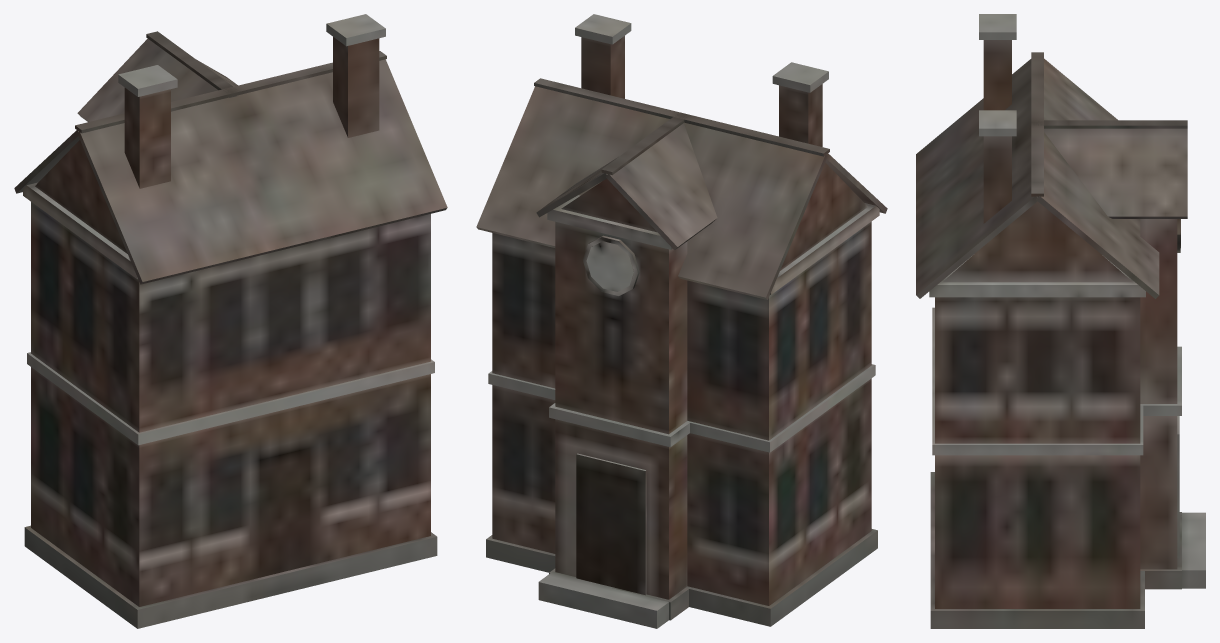
Rendered from b_school_xfar.glb.
The picture shows the model from 3 angles, left to right: view 1: azimuth 30°, elevation 25°; view 2: azimuth 150°, elevation 25°; view 3: azimuth 270°, elevation 25°; orthographic projection. The views are drawn at different scales.
Visible parts, largest first — view 1: b_school_xfar; view 2: b_school_xfar; view 3: b_school_xfar.
Boxes of the visible parts, bbox=[...] form: b_school_xfar: bbox=[14, 14, 447, 628]; b_school_xfar: bbox=[476, 14, 887, 628]; b_school_xfar: bbox=[916, 14, 1205, 628].
Size of the model in its own units: 5.86 by 9.45 by 5.08.
Materials: 1 (1 with a texture image).
